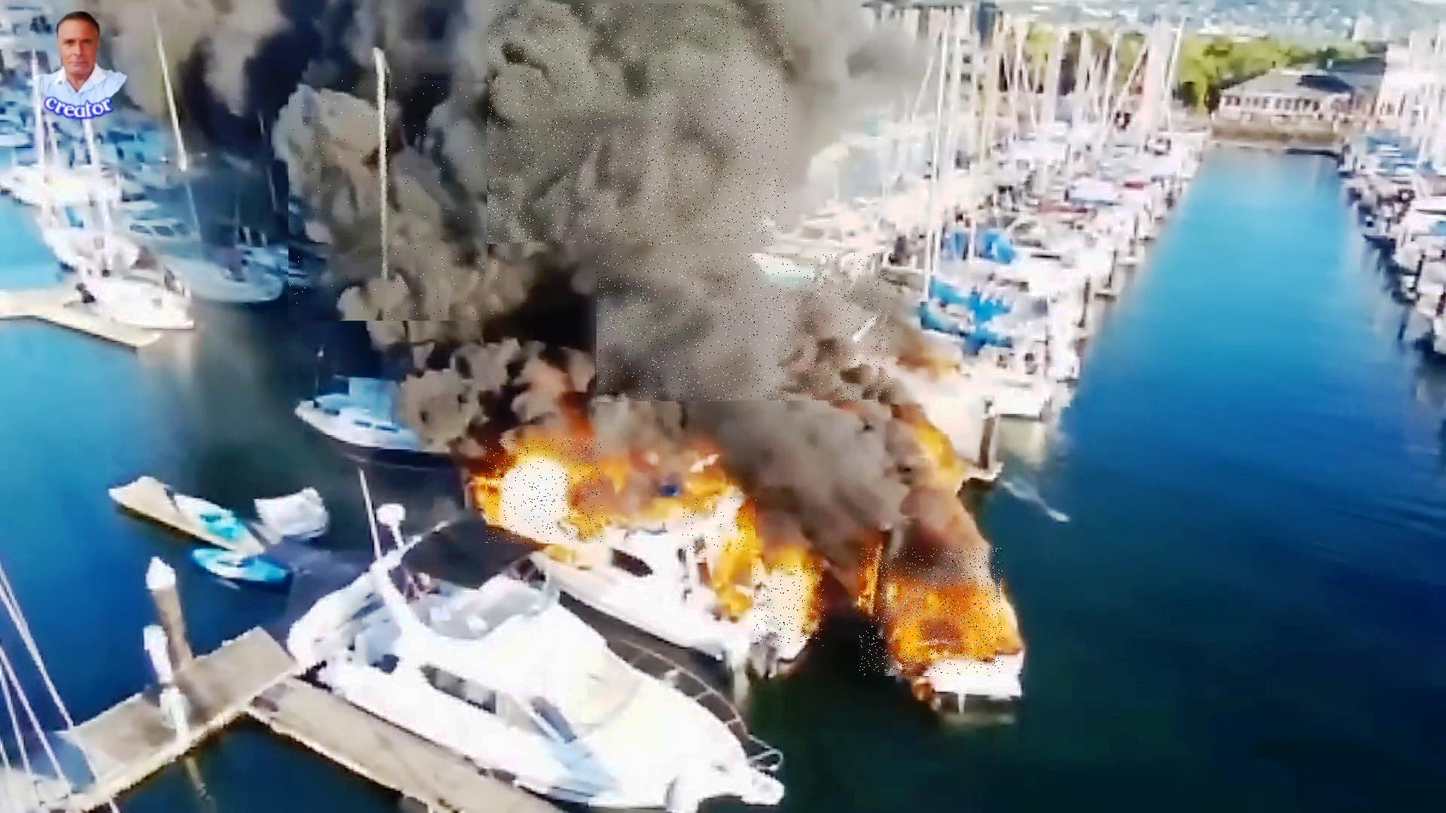fire: (859, 548, 1004, 676), (486, 439, 603, 544), (754, 563, 825, 646), (683, 497, 757, 553)
smoke: (488, 4, 789, 245), (288, 74, 505, 323), (597, 253, 894, 402)
